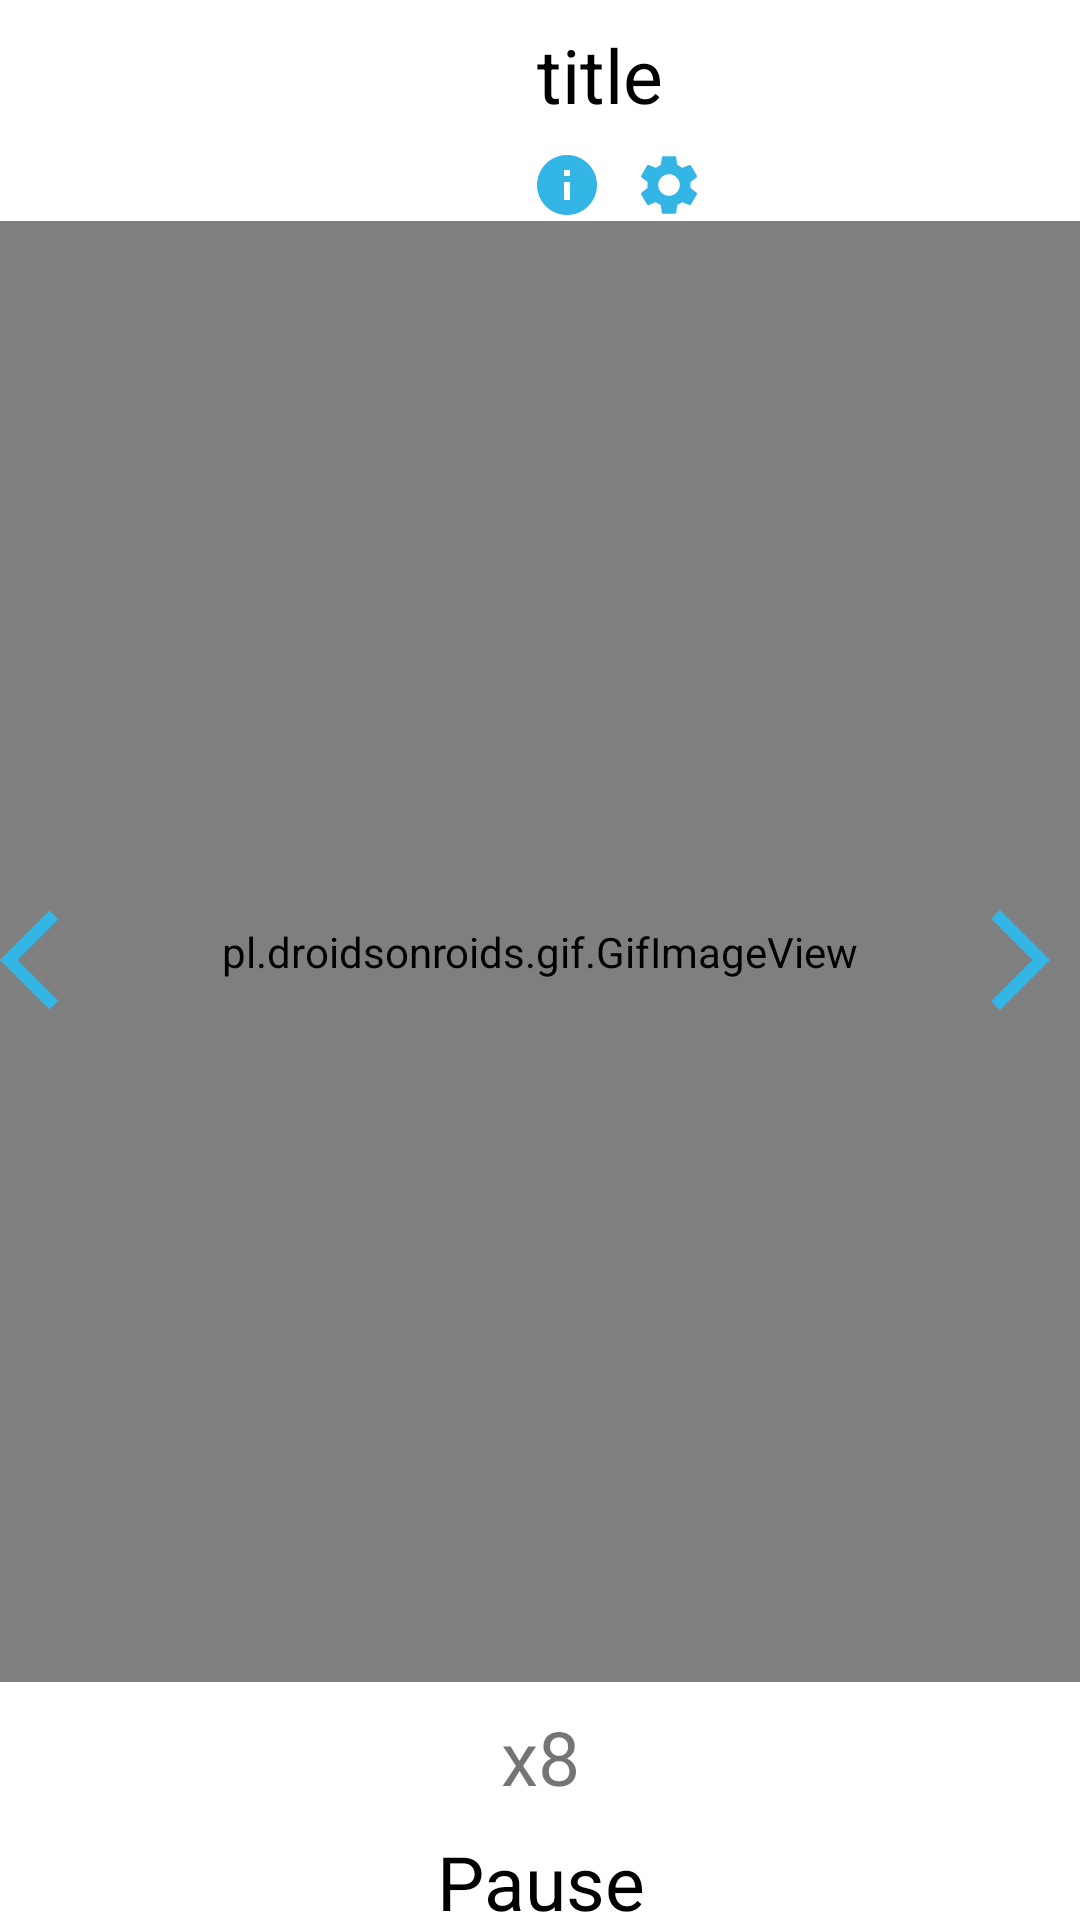

Locate icon controls on the screen. Image size 1080px x 1920px, boxes as (x1, y1, x2, y2).
info: (537, 155, 597, 215)
left arrow: (0, 910, 58, 1010)
right arrow: (991, 910, 1050, 1010)
settings: (641, 156, 697, 214)
